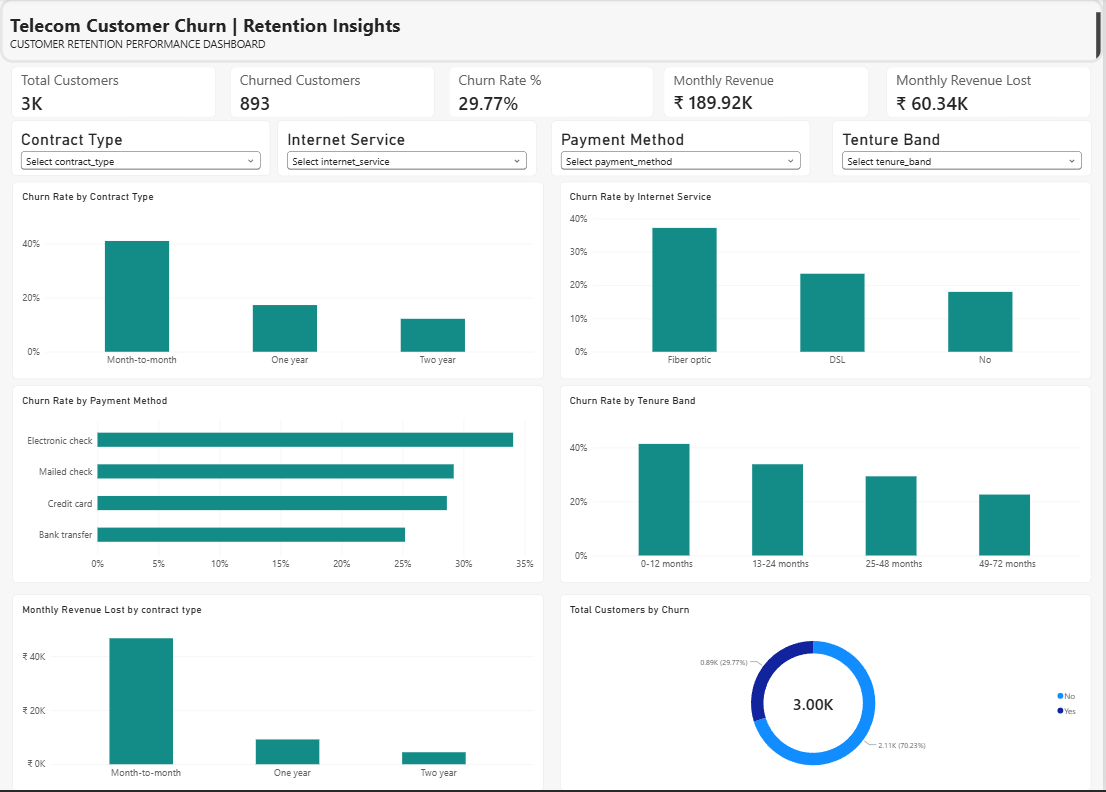

The page's visual inventory and layout, read from the dashboard file:
{"tool":"powerbi","page":{"name":"Page 1","canvas":[1920,1380],"ordinal":0},"visuals":[{"type":"textbox","box":[0,0,1919.6,113],"z":0},{"type":"cardVisual","fields":{"Data":["Customers.Total Customers"]},"box":[18.9,119.3,356.1,88.5],"z":1000},{"type":"cardVisual","fields":{"Data":["Customers.Churned Customers"]},"box":[399.6,119.3,356.1,88.5],"z":2000},{"type":"cardVisual","fields":{"Data":["Customers.Churn Rate %"]},"box":[780.4,119.3,356.1,88.5],"z":3000},{"type":"cardVisual","fields":{"Data":["Customers.Monthly Revenue"]},"box":[1155.1,119.3,356.1,88.5],"z":4000},{"type":"cardVisual","fields":{"Data":["Customers.Monthly Revenue Lost"]},"box":[1541.3,119.6,356.1,88.5],"z":5000},{"type":"listSlicer","title":"Contract Type","fields":{"Values":["Customers.contract_type"]},"box":[19.6,213,450,95.7],"z":6000},{"type":"listSlicer","title":"Internet Service","fields":{"Values":["Customers.internet_service"]},"box":[482.6,213,450,96.7],"z":7000},{"type":"listSlicer","title":"Payment Method","fields":{"Values":["Customers.payment_method"]},"box":[958.7,213,450,96.7],"z":8000},{"type":"listSlicer","title":"Tenture Band","fields":{"Values":["Customers.tenure_band"]},"box":[1447.8,213,450,96.7],"z":9000},{"type":"clusteredColumnChart","title":"Churn Rate by Contract Type","fields":{"Category":["Customers.contract_type"],"Y":["Customers.Churn Rate %"]},"box":[21,319.6,923.9,343.5],"z":10000},{"type":"donutChart","title":"Total Customers by Churn","fields":{"Category":["Customers.churn"],"Y":["Customers.Total Customers"]},"box":[973.9,1037,923.9,343.5],"z":11000},{"type":"clusteredColumnChart","fields":{"Category":["Customers.contract_type"],"Y":["Customers.Monthly Revenue Lost"]},"box":[21.7,1037,923.9,343.5],"z":12000},{"type":"clusteredColumnChart","title":"Churn Rate by Tenure Band","fields":{"Category":["Customers.tenure_band"],"Y":["Customers.Churn Rate %"]},"box":[973.9,673.9,923.9,343.5],"z":13000},{"type":"clusteredBarChart","title":"Churn Rate by Payment Method","fields":{"Category":["Customers.payment_method"],"Y":["Customers.Churn Rate %"]},"box":[21.7,673.9,923.9,343.5],"z":14000},{"type":"clusteredColumnChart","title":"Churn Rate by Internet Service","fields":{"Category":["Customers.internet_service"],"Y":["Customers.Churn Rate %"]},"box":[973.9,319.6,923.9,343.5],"z":15000}]}

Visuals, with their boxes in screenshot pixels (x1, y1, x2, y2), scaled from the page's 1920x1380 canvas onto the 1106x792 screenshot:
textbox: left=0, top=0, right=1105, bottom=65
cardVisual - Customers.Total Customers: left=11, top=68, right=216, bottom=119
cardVisual - Customers.Churned Customers: left=230, top=68, right=435, bottom=119
cardVisual - Customers.Churn Rate %: left=450, top=68, right=655, bottom=119
cardVisual - Customers.Monthly Revenue: left=665, top=68, right=871, bottom=119
cardVisual - Customers.Monthly Revenue Lost: left=888, top=69, right=1093, bottom=119
"Contract Type" listSlicer: left=11, top=122, right=271, bottom=177
"Internet Service" listSlicer: left=278, top=122, right=537, bottom=178
"Payment Method" listSlicer: left=552, top=122, right=811, bottom=178
"Tenture Band" listSlicer: left=834, top=122, right=1093, bottom=178
"Churn Rate by Contract Type" clusteredColumnChart: left=12, top=183, right=544, bottom=381
"Total Customers by Churn" donutChart: left=561, top=595, right=1093, bottom=791
clusteredColumnChart - Customers.contract_type x Customers.Monthly Revenue Lost: left=13, top=595, right=545, bottom=791
"Churn Rate by Tenure Band" clusteredColumnChart: left=561, top=387, right=1093, bottom=584
"Churn Rate by Payment Method" clusteredBarChart: left=13, top=387, right=545, bottom=584
"Churn Rate by Internet Service" clusteredColumnChart: left=561, top=183, right=1093, bottom=381
